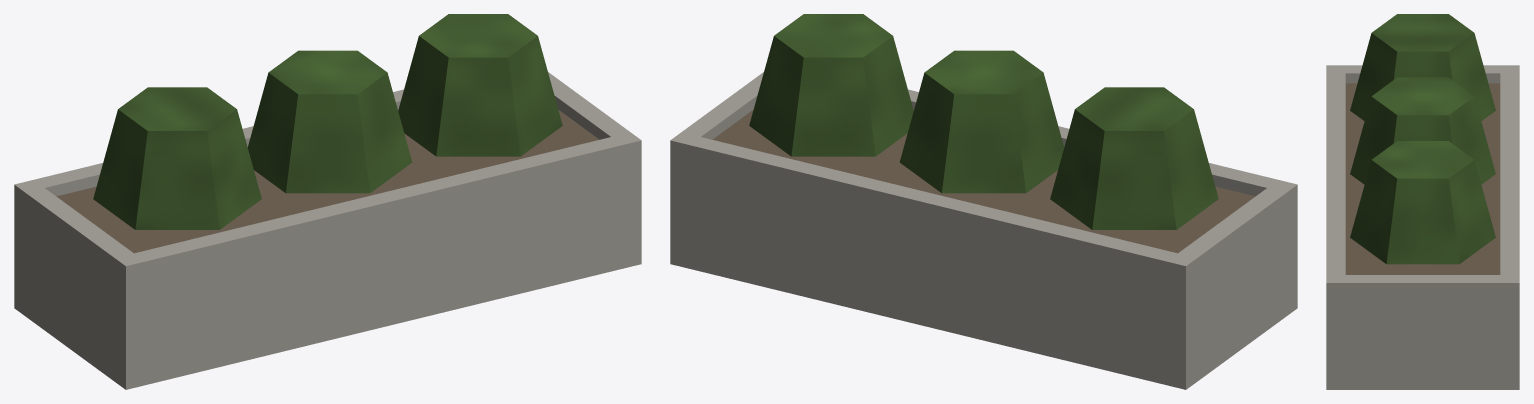
Rendered from site_planter.fbx.
The picture shows the model from 3 angles, left to right: view 1: azimuth 30°, elevation 25°; view 2: azimuth 150°, elevation 25°; view 3: azimuth 270°, elevation 25°; orthographic projection. The views are drawn at different scales.
Visible parts, largest first — view 1: a3002/0/site_planter; view 2: a3002/0/site_planter; view 3: a3002/0/site_planter.
Part boxes in pixels (x1,y1,x2,y2): a3002/0/site_planter: (14, 14, 641, 389); a3002/0/site_planter: (670, 14, 1297, 389); a3002/0/site_planter: (1326, 14, 1519, 389).
Size of the model in its own units: 2.4 by 0.95 by 0.9.
